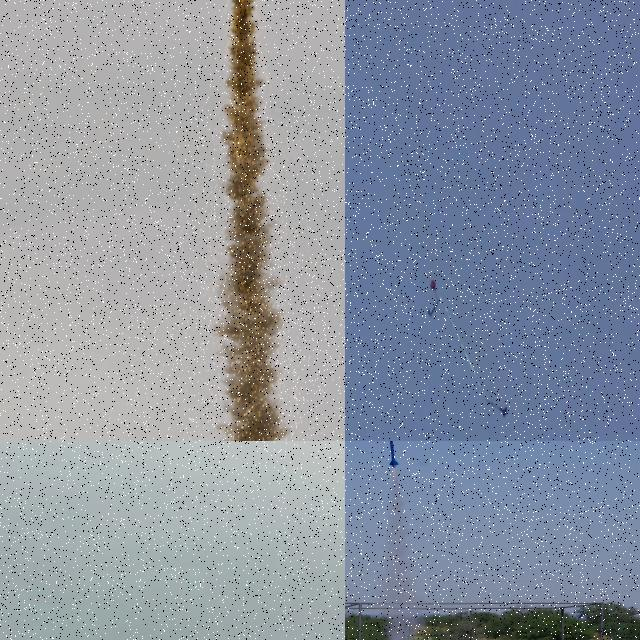Rocket: (484, 396, 508, 420), (386, 441, 399, 469)
